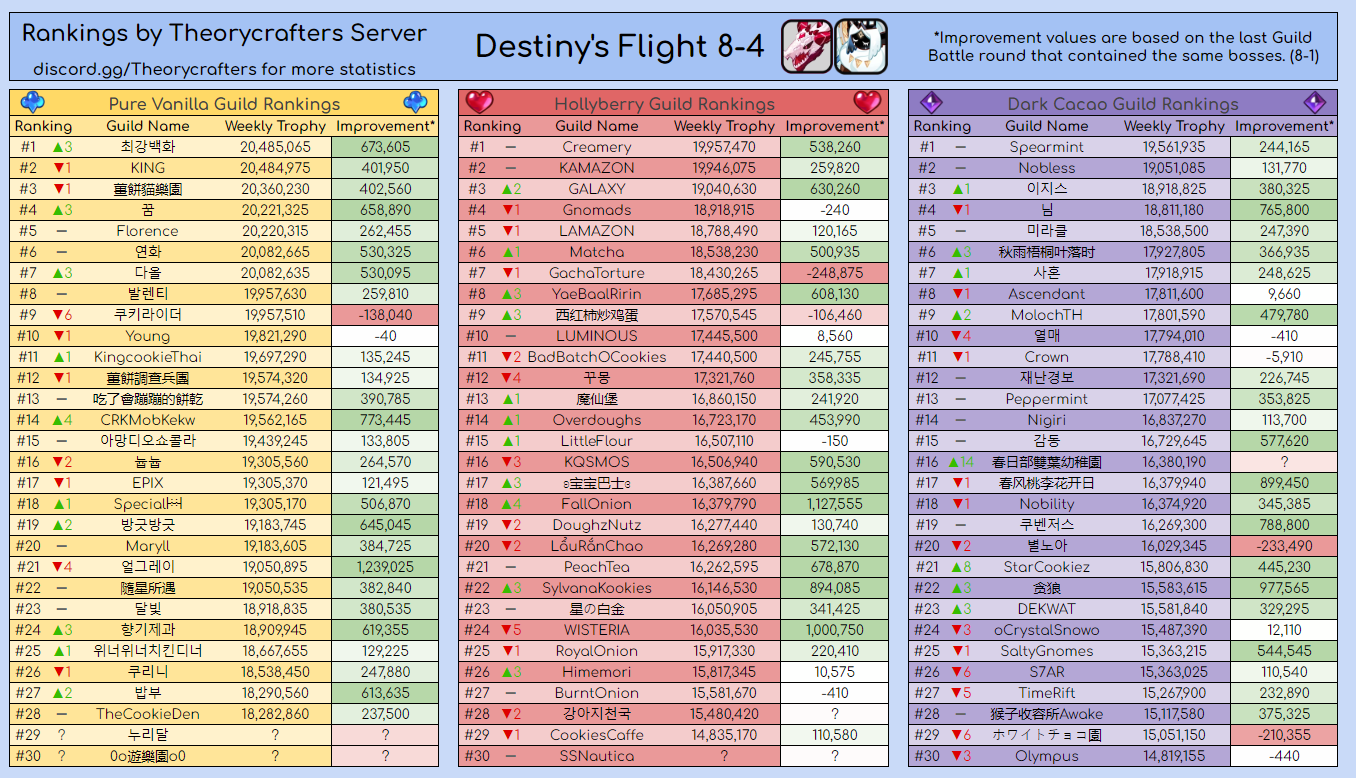

The dashboard page shown, as its layout file describes it:
{"tool":"tableau","page":{"name":"Leaderboard","canvas":[1024,1400],"ordinal":1},"visuals":[{"type":"worksheet","title":"Title table","mark":"Shape","rows":["Calculation_898186666553450504"],"cols":["Calculation_898186666553450504"],"box":[4,4,1016,59]},{"type":"filter","title":"Enhance table body","param":"[federated.18al28b04he33914fxq6d1x1h5y0].[none:Round:nk]","box":[762,11.2,254,50]},{"type":"worksheet","title":"Enhance table header","mark":"Shape","rows":["Calculation_678636192710987784","Calculation_678636192725467159"],"cols":["Calculation_898186666553450504","Calculation_898186666553450504","Calculation_898186666553450504","Calculation_898186666553450504"],"box":[4,63,1016,54]},{"type":"worksheet","title":"Enhance table body","mark":"Shape","rows":["Round","SeasonRank","DiffSeasonRank","GuildNameExtra"],"cols":["Calculation_898186666553450504","Calculation_898186666553450504","Improvement"],"box":[4,117,1016,1279]}]}

Visuals, with their boxes on the page's 1024x1400 design canvas (x1, y1, x2, y2). These are canvas units, not pixel positions in the 1356x778 screenshot, which may show the page scaled, cropped or inside an application window:
"Title table" worksheet (Shape marks): left=4, top=4, right=1020, bottom=63
"Enhance table body" filter: left=762, top=11, right=1016, bottom=61
"Enhance table header" worksheet (Shape marks): left=4, top=63, right=1020, bottom=117
"Enhance table body" worksheet (Shape marks): left=4, top=117, right=1020, bottom=1396
